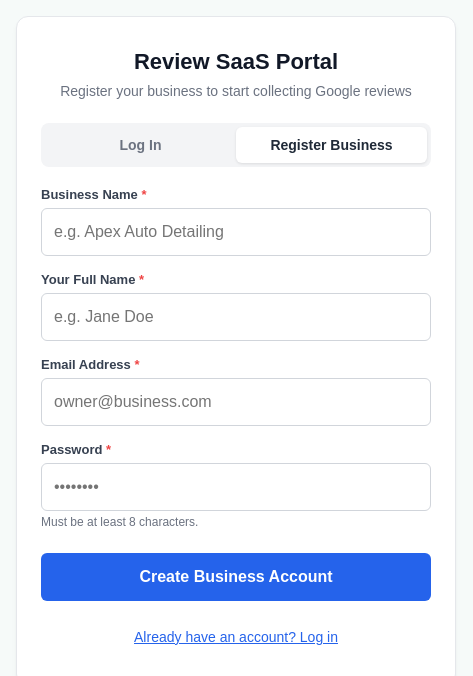
it: OwnerAuth Component Tests › 7. should display friendly error alert on 409 DUPLICATE_EMAIL during registration
Type "Car Clinic" into the field with test id "register-business-name-input".
click(236, 232); type("Car Clinic")  # box left=41, top=208, right=431, bottom=256
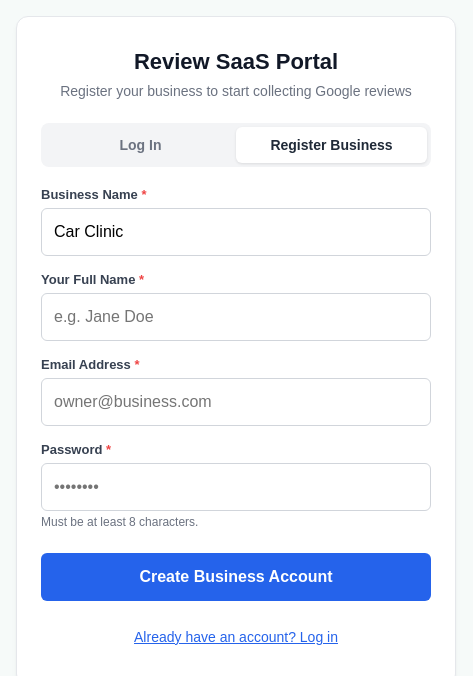
Type "John Smith" into the field with test id "register-full-name-input".
click(236, 317); type("John Smith")  # box left=41, top=293, right=431, bottom=341
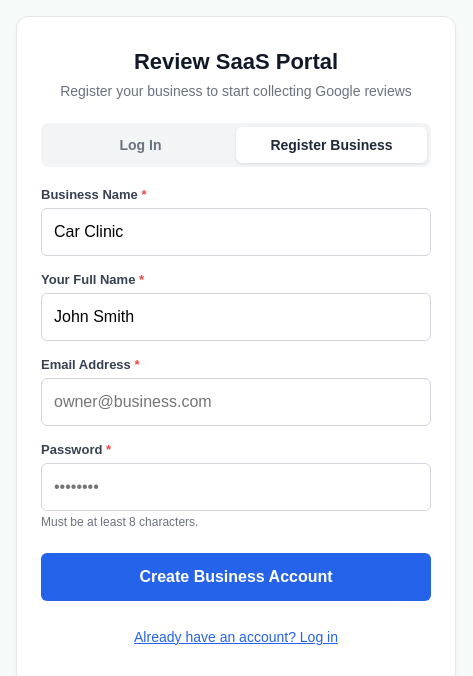
Type "existing@example.com" into the field with test id "login-email-input".
click(236, 402); type("existing@example.com")  # box left=41, top=378, right=431, bottom=426
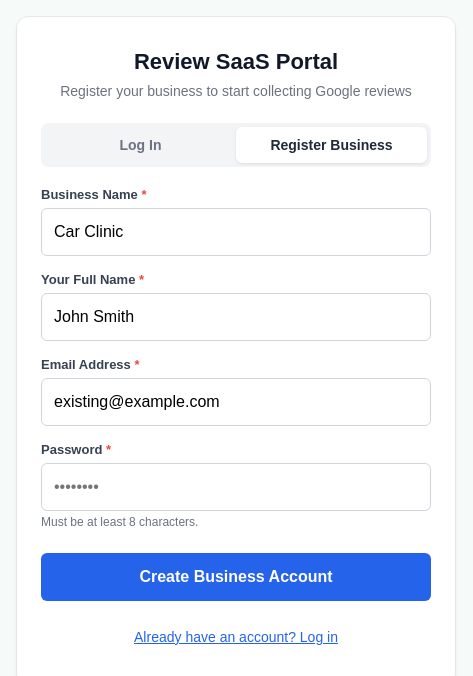
Type "Password123!" into the password field with test id "login-password-input".
click(236, 487); type("Password123!")  # box left=41, top=463, right=431, bottom=511
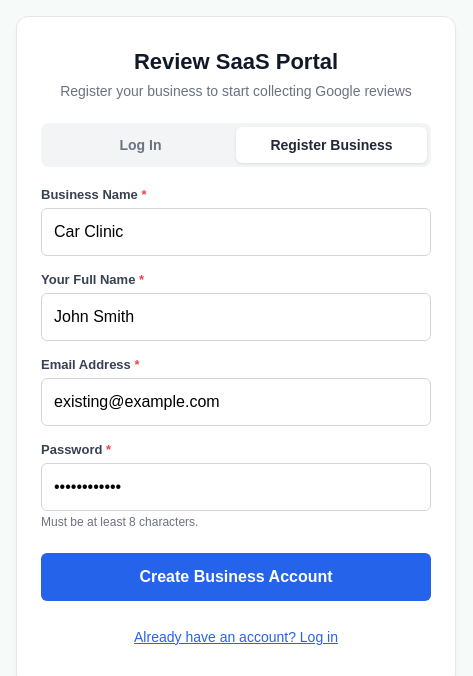
Click the button with test id "auth-submit-button".
click(236, 577)  # box left=41, top=553, right=431, bottom=601
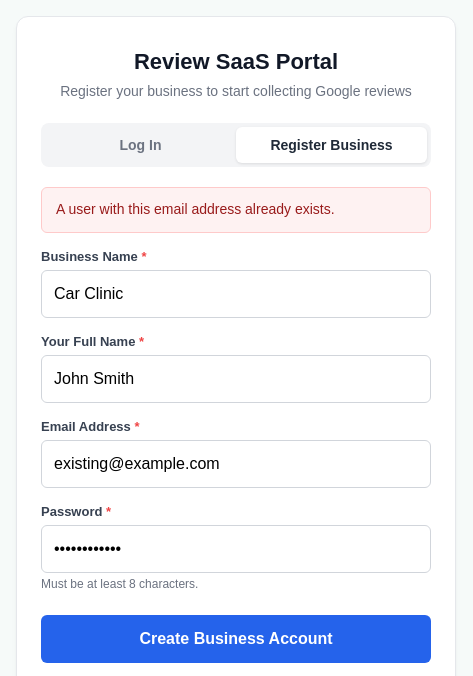
Expected: the message "A user with this email address already exists." is shown, left=41, top=187, right=431, bottom=233
Expected: the message with test id "auth-error-banner" shows "A user with this email address already exists", left=56, top=201, right=335, bottom=217
